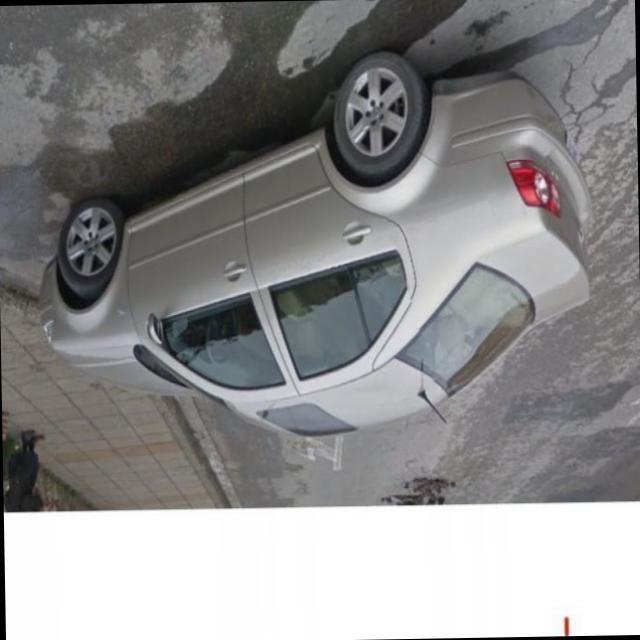car: (42, 44, 602, 447)
